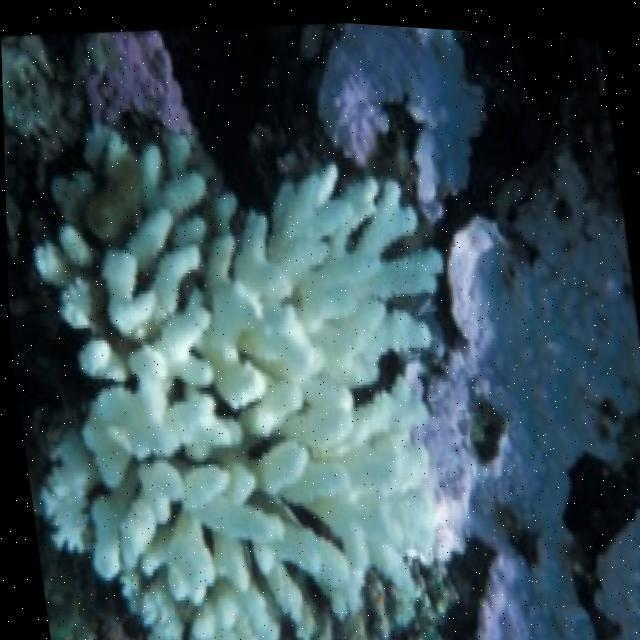Bleached Coral: (2, 84, 487, 640)
